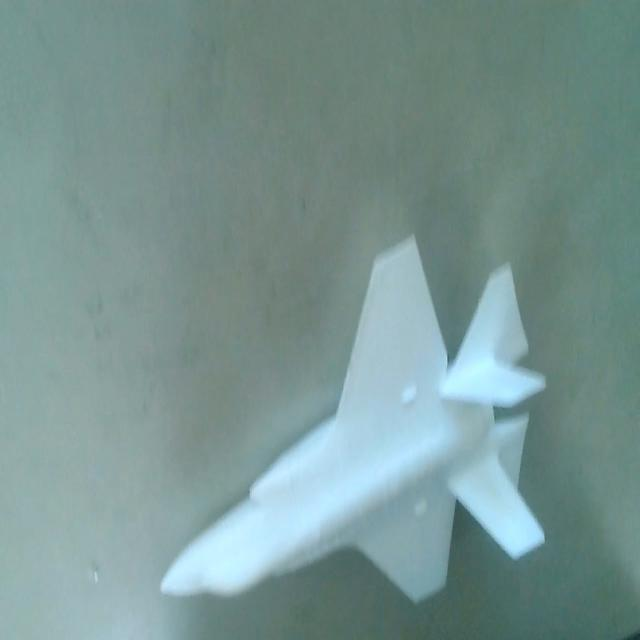Jet: (154, 235, 552, 617)
